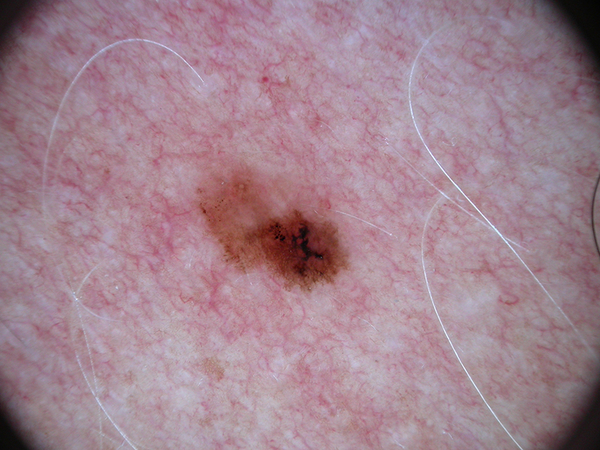Detected Lesion: (183, 163, 365, 312)
